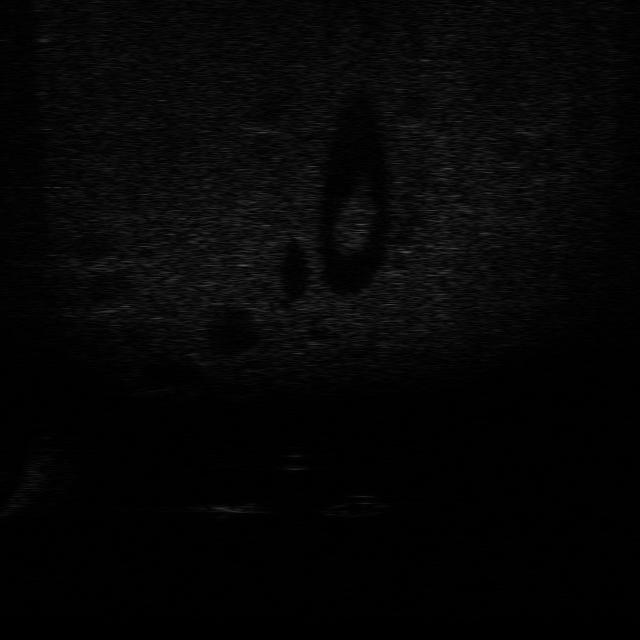ball: (262, 441, 322, 473)
square cage: (191, 492, 271, 524)
tyre: (315, 488, 391, 521)
